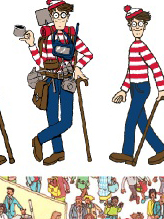waldo: (124, 5, 150, 38), (48, 1, 72, 30)
